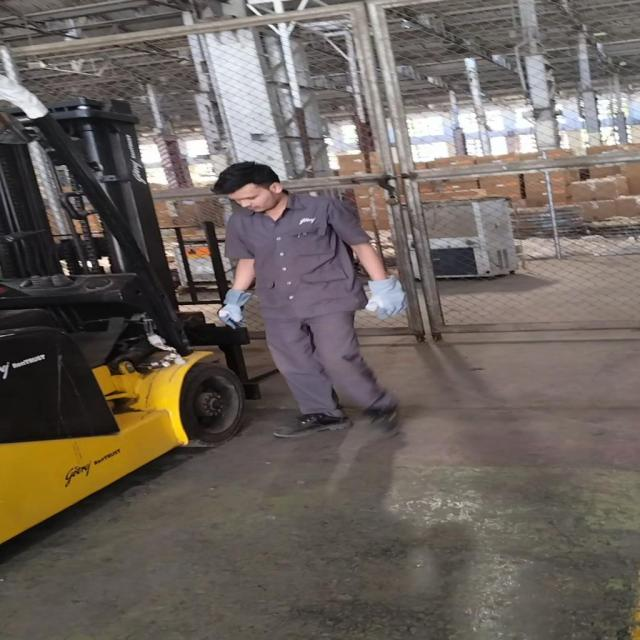Gloves-Detection: (364, 277, 408, 316), (217, 287, 256, 326)
